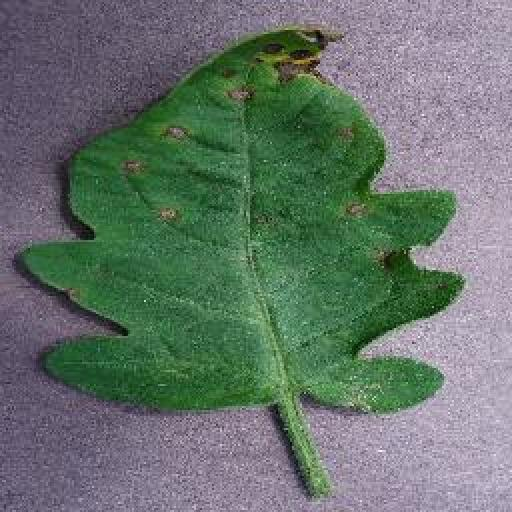disease_tomato: (20, 24, 467, 415)
